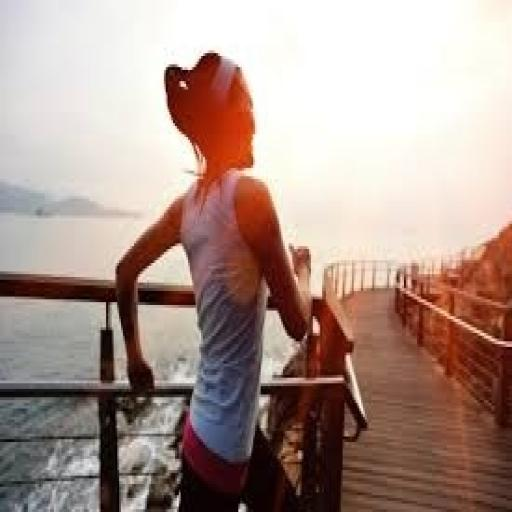running: (112, 48, 316, 509)
